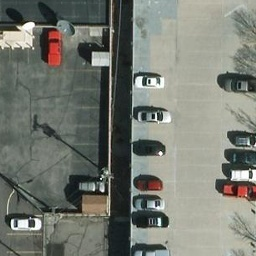car: (47, 28, 63, 68), (133, 108, 172, 124), (74, 175, 106, 194), (10, 216, 42, 233), (135, 73, 166, 90), (133, 138, 162, 156), (134, 175, 163, 193), (135, 194, 164, 212), (221, 183, 256, 197), (220, 164, 255, 178), (221, 150, 256, 164), (221, 80, 256, 94), (135, 213, 169, 227), (232, 132, 256, 147)
